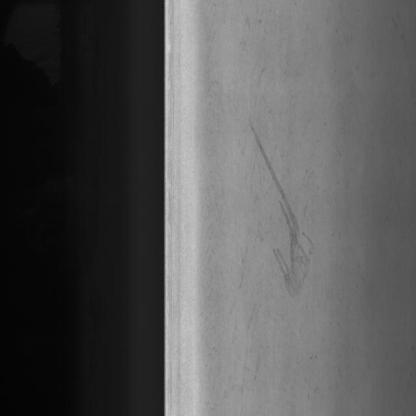water_spot: (245, 110, 325, 308)
